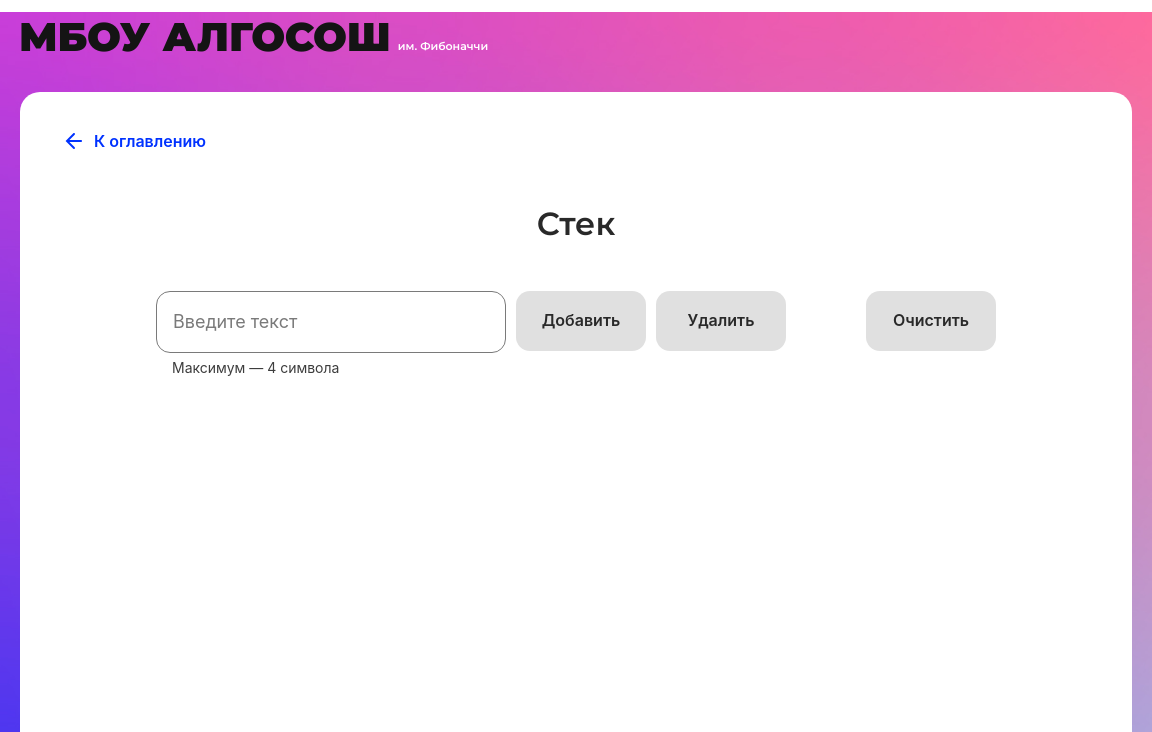
Test: Stack test › The element is deleted correctly
Type "1" into the field with placeholder "Введите текст" at (331, 322), box [156,291,506,353]
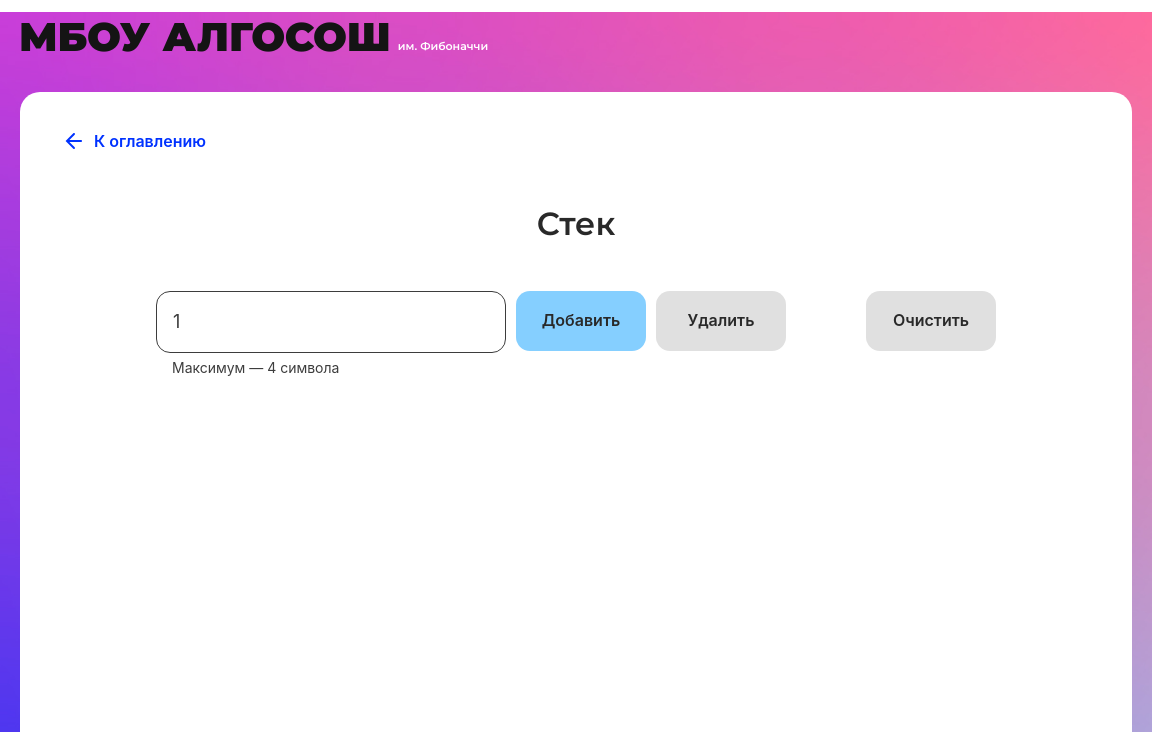
Click the submit button at (581, 321), box [516,291,646,351]
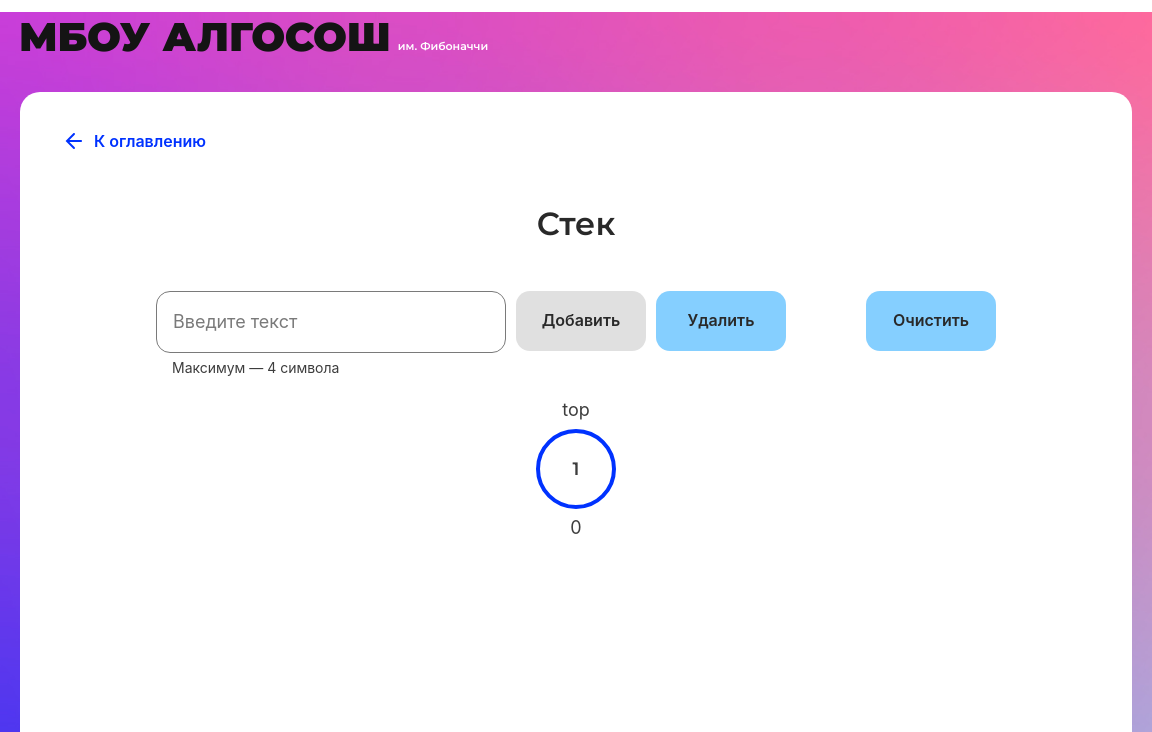
Expected: the element with test id "contetnt" is shown, [536,429,616,509]
Click the button with test id "button-delete" at (721, 321), box [656,291,786,351]
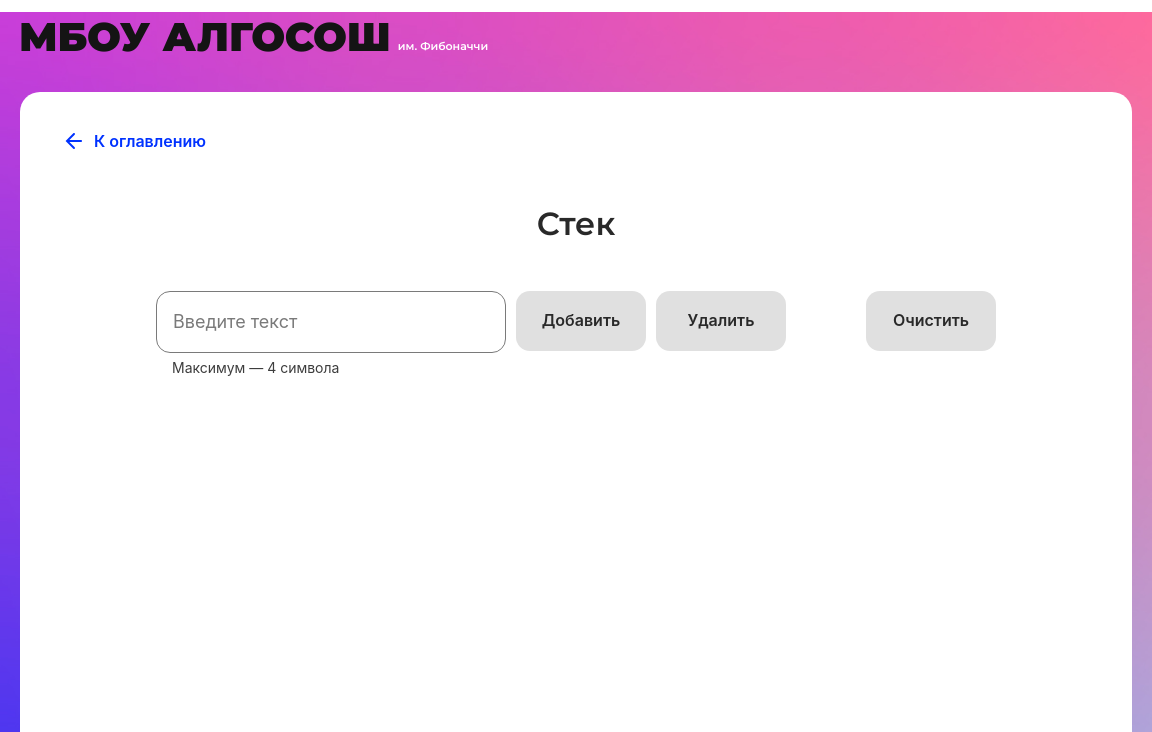
Expected: the element with test id "contetnt" is gone
